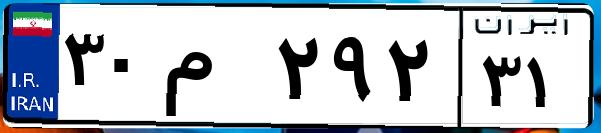0: (110, 28, 158, 98)
1: (525, 38, 570, 115)
2: (270, 28, 330, 110), (385, 28, 445, 110)
3: (57, 26, 110, 100), (475, 38, 525, 113)
9: (330, 28, 385, 110)
م: (158, 20, 270, 120)
